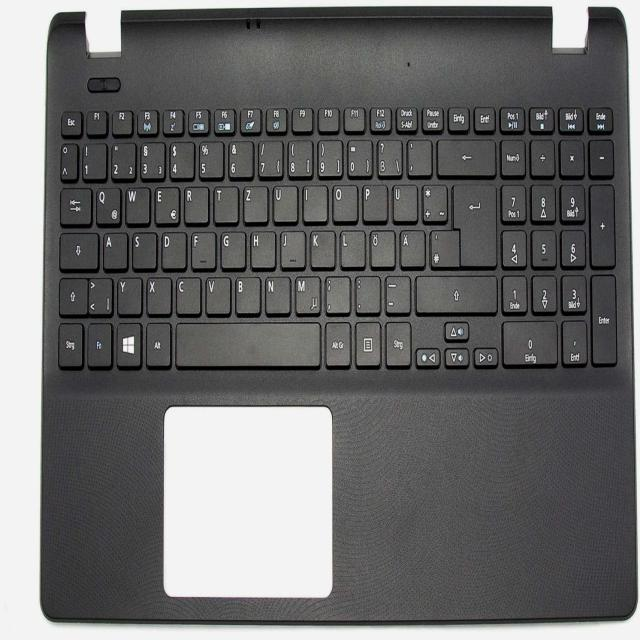0: (345, 138, 373, 177)
1: (81, 141, 107, 182)
2: (110, 141, 136, 180)
3: (139, 141, 165, 180)
4: (168, 140, 194, 180)
5: (198, 139, 224, 180)
6: (227, 139, 253, 179)
7: (257, 139, 283, 178)
8: (286, 139, 313, 178)
9: (316, 138, 343, 178)
a: (102, 231, 128, 272)
accent: (405, 137, 432, 178)
ae: (398, 228, 426, 268)
alt-left: (145, 322, 171, 369)
altgr-right: (323, 320, 351, 368)
b: (233, 275, 261, 316)
c: (174, 275, 201, 316)
caret: (59, 142, 78, 181)
comma: (323, 275, 351, 316)
d: (160, 230, 187, 271)
del: (435, 137, 496, 178)
e: (153, 185, 180, 226)
enter: (455, 183, 497, 266)
f: (190, 230, 216, 271)
g: (219, 230, 246, 270)
h: (249, 229, 276, 270)
hash: (429, 228, 459, 268)
i: (301, 184, 328, 225)
j: (278, 229, 306, 270)
k: (308, 228, 336, 269)
keyboard: (49, 96, 624, 385)
l: (338, 228, 366, 269)
less: (87, 275, 113, 316)
m: (293, 274, 321, 316)
minus: (383, 275, 411, 316)
n: (263, 274, 291, 316)
o: (330, 183, 358, 223)
oe: (368, 228, 396, 269)
p: (361, 183, 388, 224)
plus: (421, 182, 448, 223)
point: (353, 274, 381, 315)
q: (94, 186, 121, 226)
r: (183, 184, 209, 225)
s: (130, 230, 157, 271)
shift-left: (57, 276, 87, 316)
shift-lock: (58, 231, 100, 272)
shift-right: (415, 274, 498, 315)
space: (174, 321, 321, 368)
ss: (376, 137, 402, 177)
strg-left: (56, 321, 84, 368)
strg-right: (384, 320, 411, 368)
t: (213, 184, 239, 225)
tab: (59, 186, 93, 226)
u: (272, 183, 298, 224)
ue: (391, 182, 419, 225)
v: (204, 274, 231, 316)
w: (124, 185, 151, 225)
x: (145, 275, 172, 316)
y: (116, 276, 142, 316)
z: (242, 184, 268, 225)
